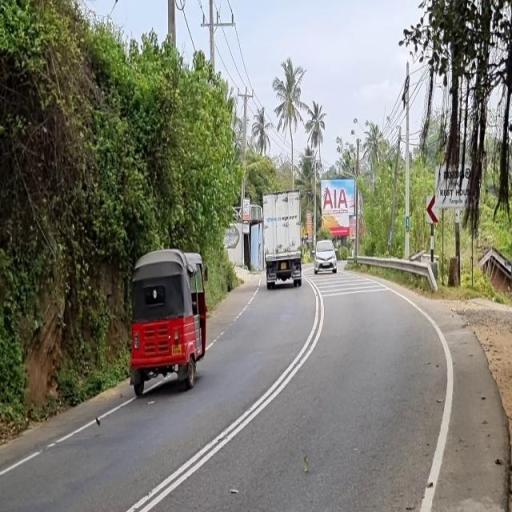double_white_line: (127, 282, 326, 511)
